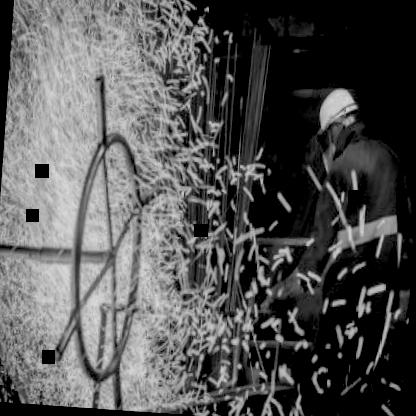helmet: (314, 83, 368, 167)
